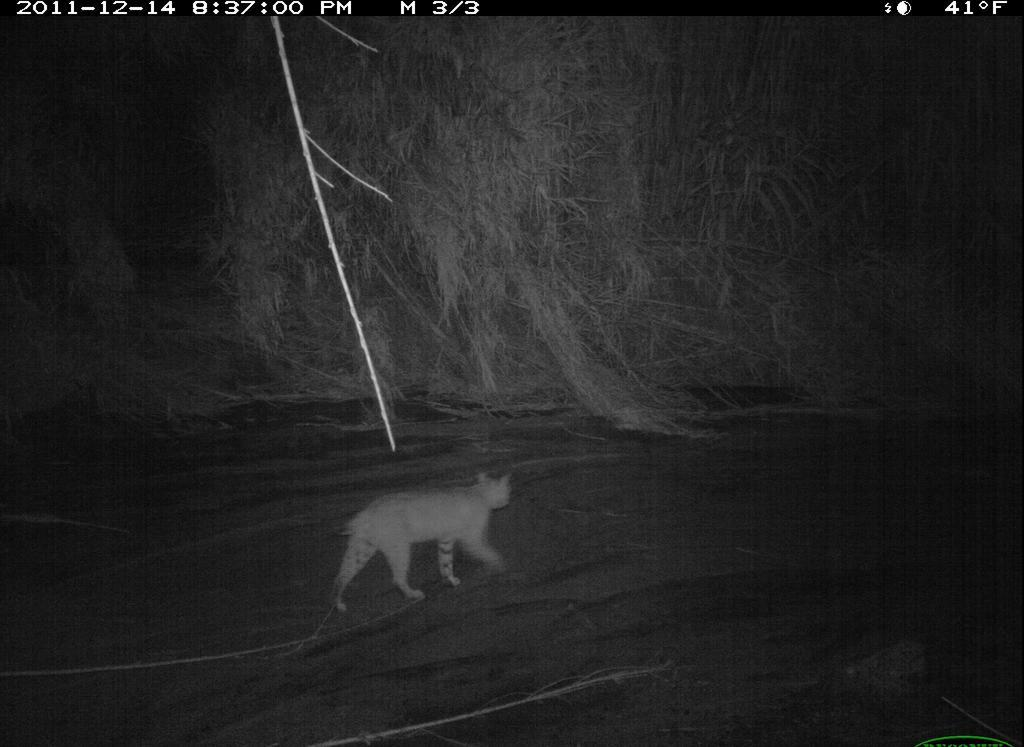bobcat: (315, 461, 527, 623)
